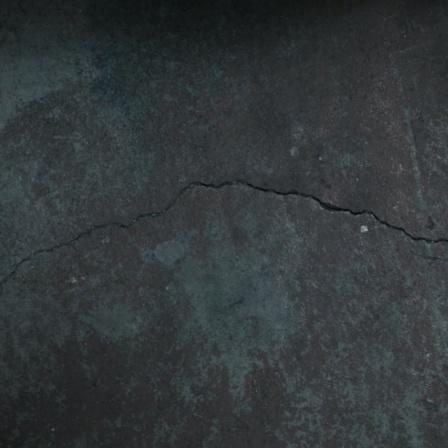crack: (0, 151, 448, 291)
